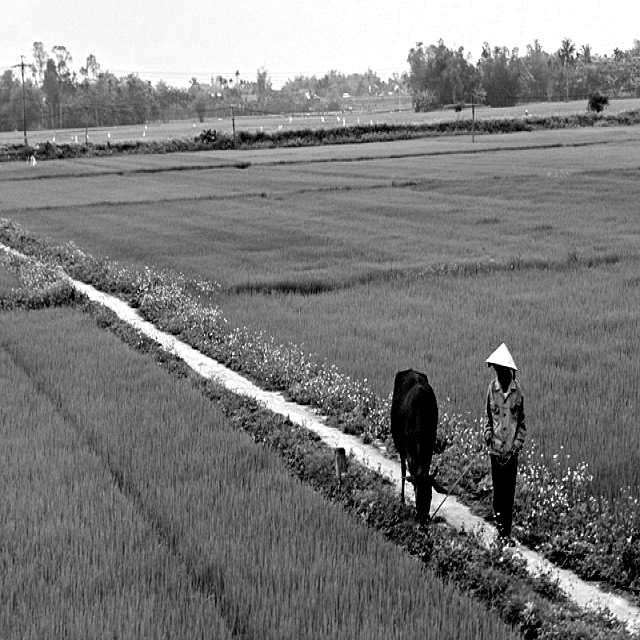COW: (391, 369, 446, 523)
